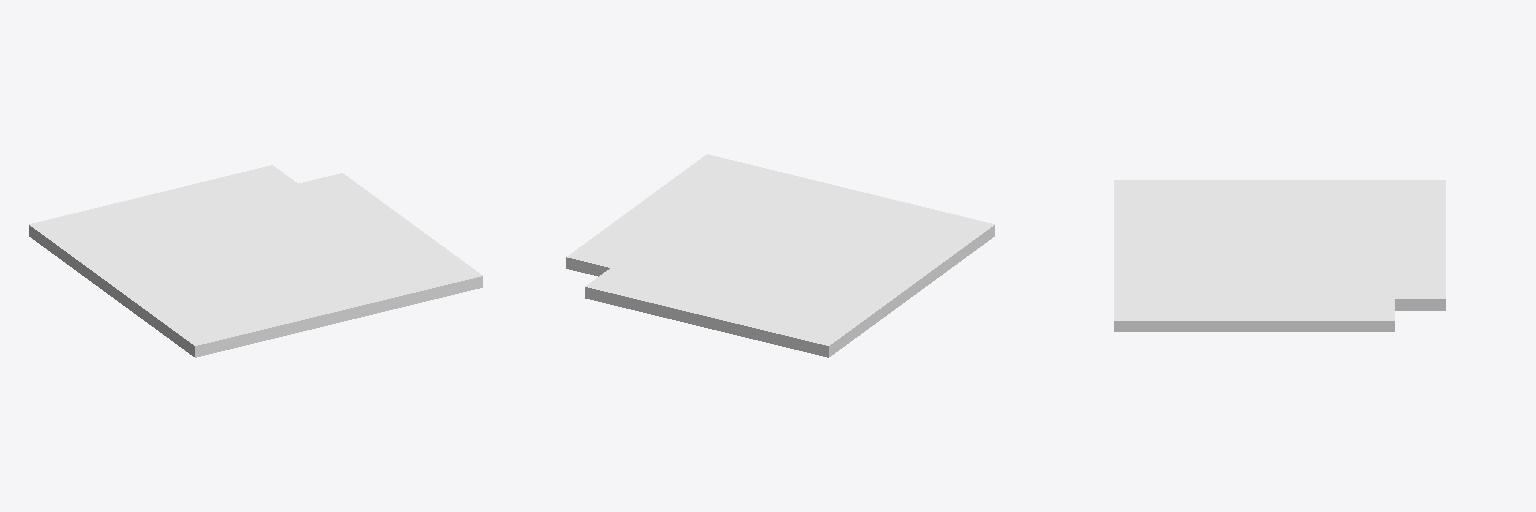
Rendered from RaodP5.obj.
3 views of the same model, side by side, from view 1: azimuth 30°, elevation 25°; view 2: azimuth 150°, elevation 25°; view 3: azimuth 270°, elevation 25° (orthographic).
Visible parts, largest first — view 1: object 1; view 2: object 1; view 3: object 1.
Part boxes in pixels (x1,y1,x2,y2): object 1: (29,165,482,357); object 1: (566,154,994,357); object 1: (1114,180,1445,331).
Bounding box in the file's own units: 2.6 × 0.1 × 2.6.